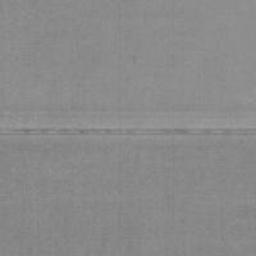Welding line: (0, 125, 256, 138)
